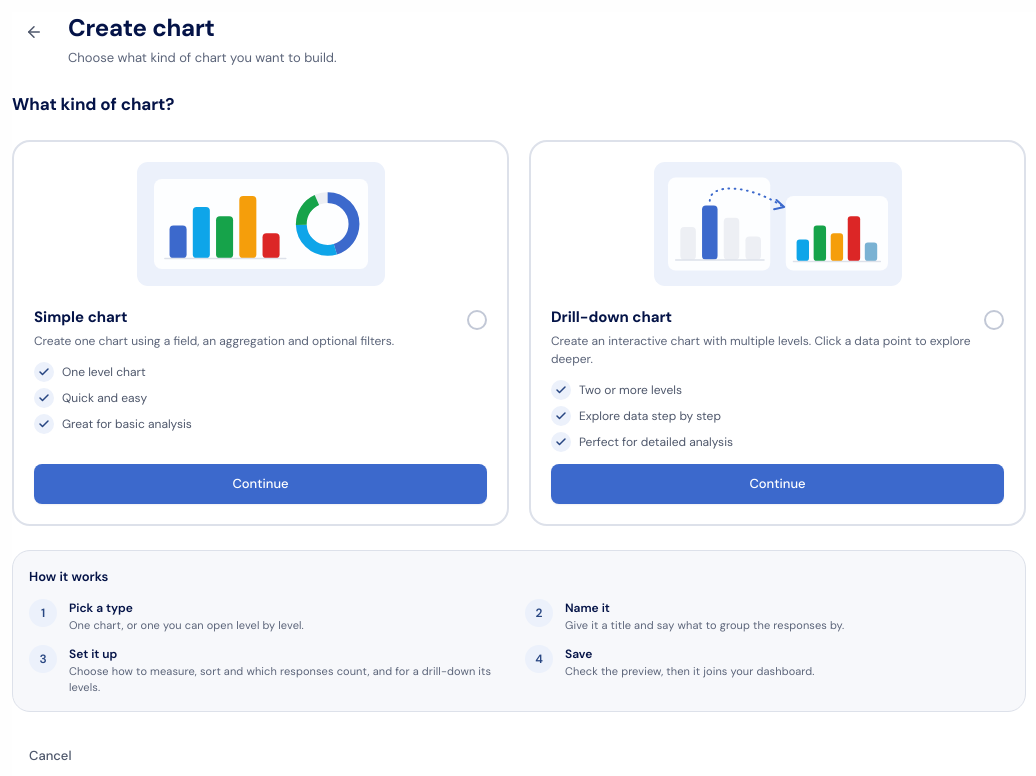
step 3: configure › Back keeps everything that was set
Expected: the radio button labelled "Simple chart" is shown, [12, 140, 509, 526]
Click the button "Continue" below "Great for basic analysis": (260, 484) [34, 464, 487, 504]
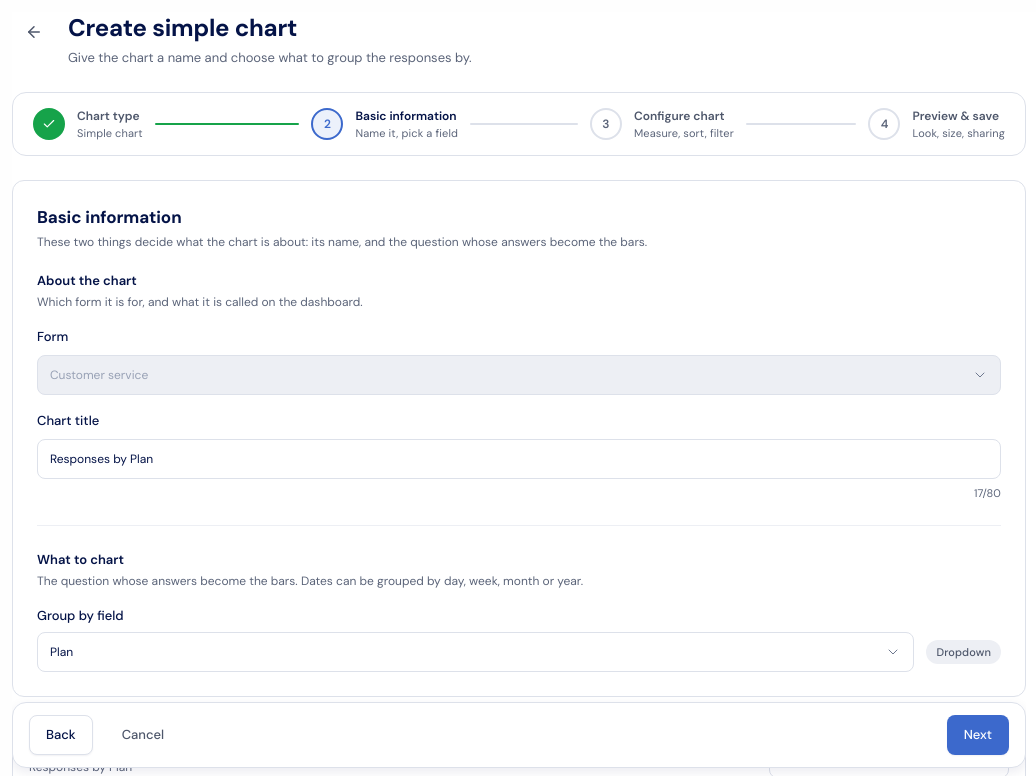
Now the field labelled "Chart title" is shown, box [37, 439, 1001, 479]
Click the button "Next": (978, 735) [947, 715, 1009, 755]
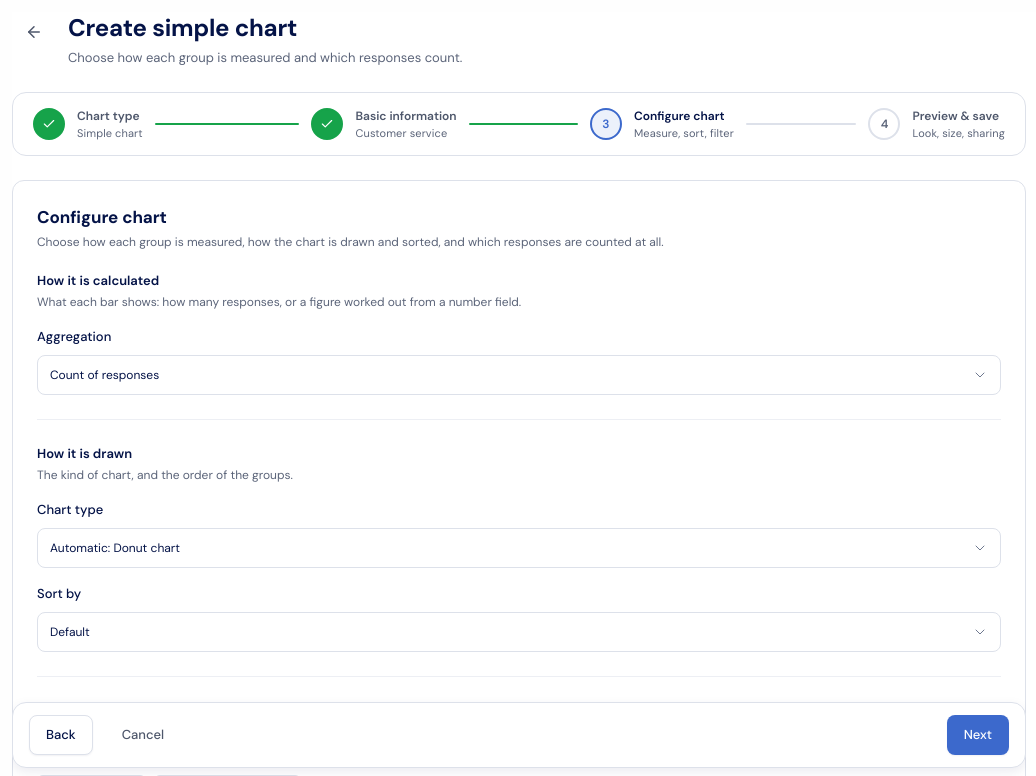
Now the heading "Configure chart" is shown, box [37, 206, 167, 228]
Select "Name (A to Z)" in the dropdown labelled "Sort by": (519, 632) [37, 612, 1001, 652]
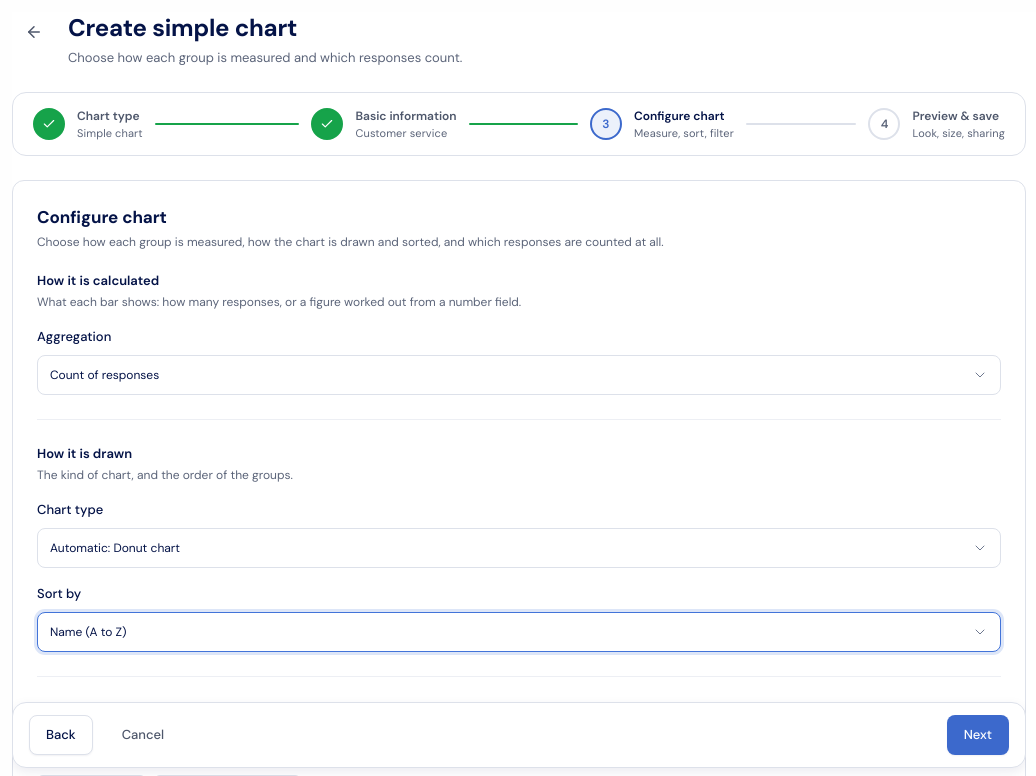
Click the button "Back": (61, 735) [29, 715, 93, 755]
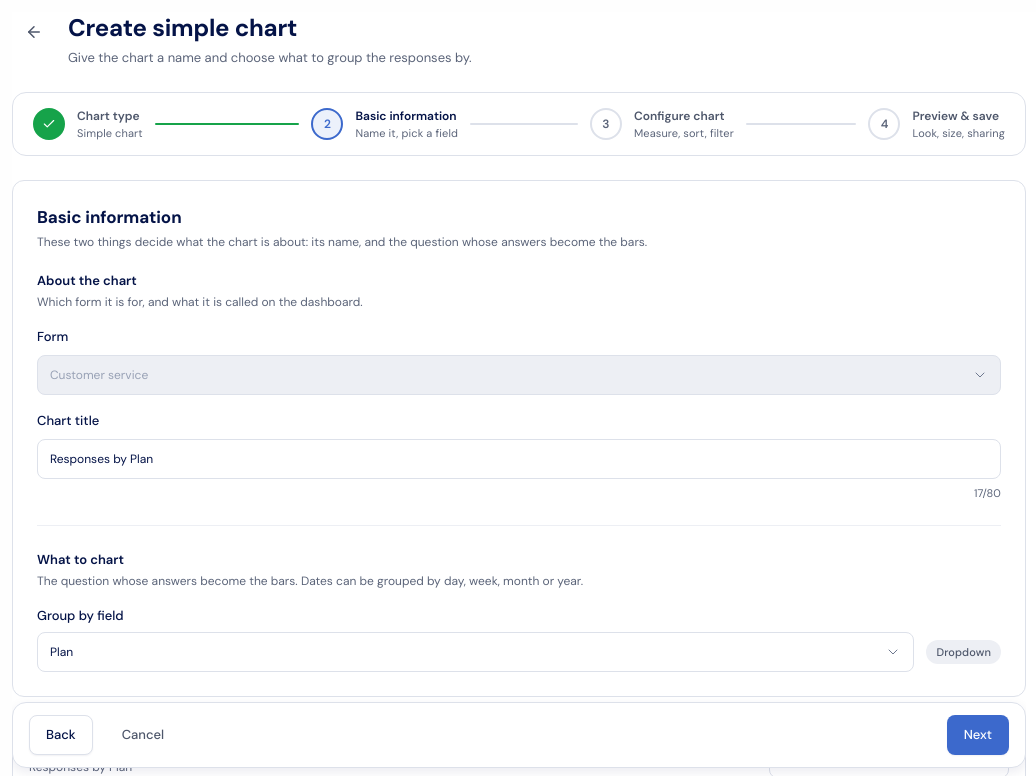
Now the field labelled "Chart title" holds "Responses by Plan", box [37, 439, 1001, 479]
Click the button "Next": (978, 735) [947, 715, 1009, 755]
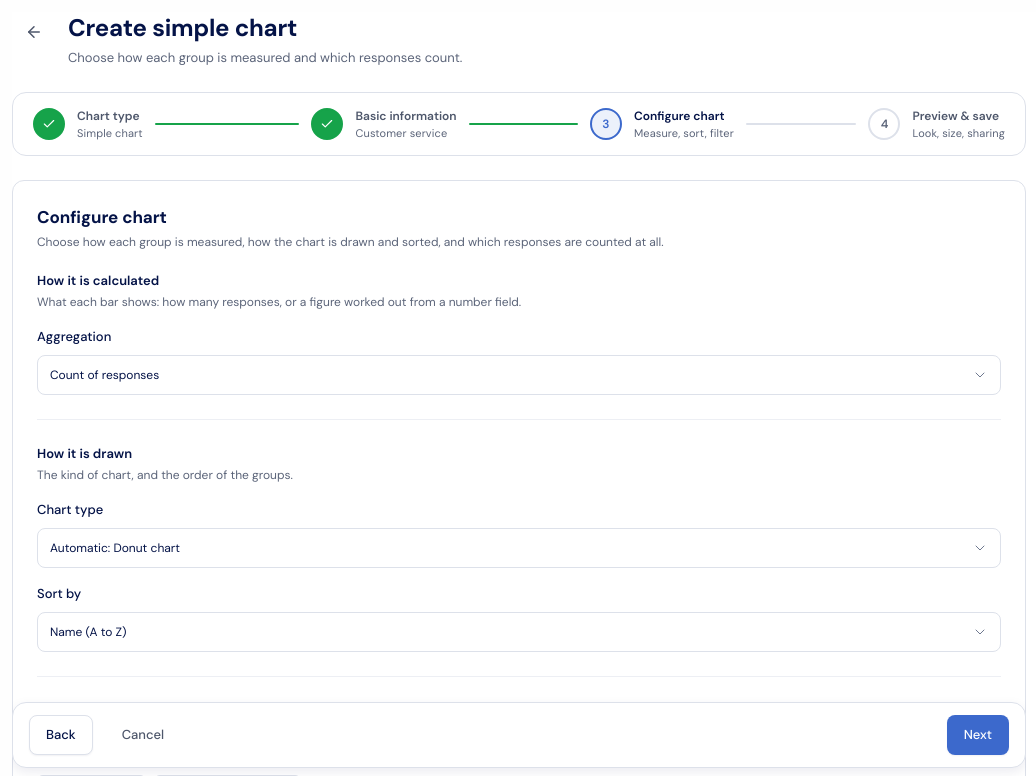
Now the dropdown labelled "Sort by" shows "Name (A to Z)", box [37, 612, 1001, 652]
